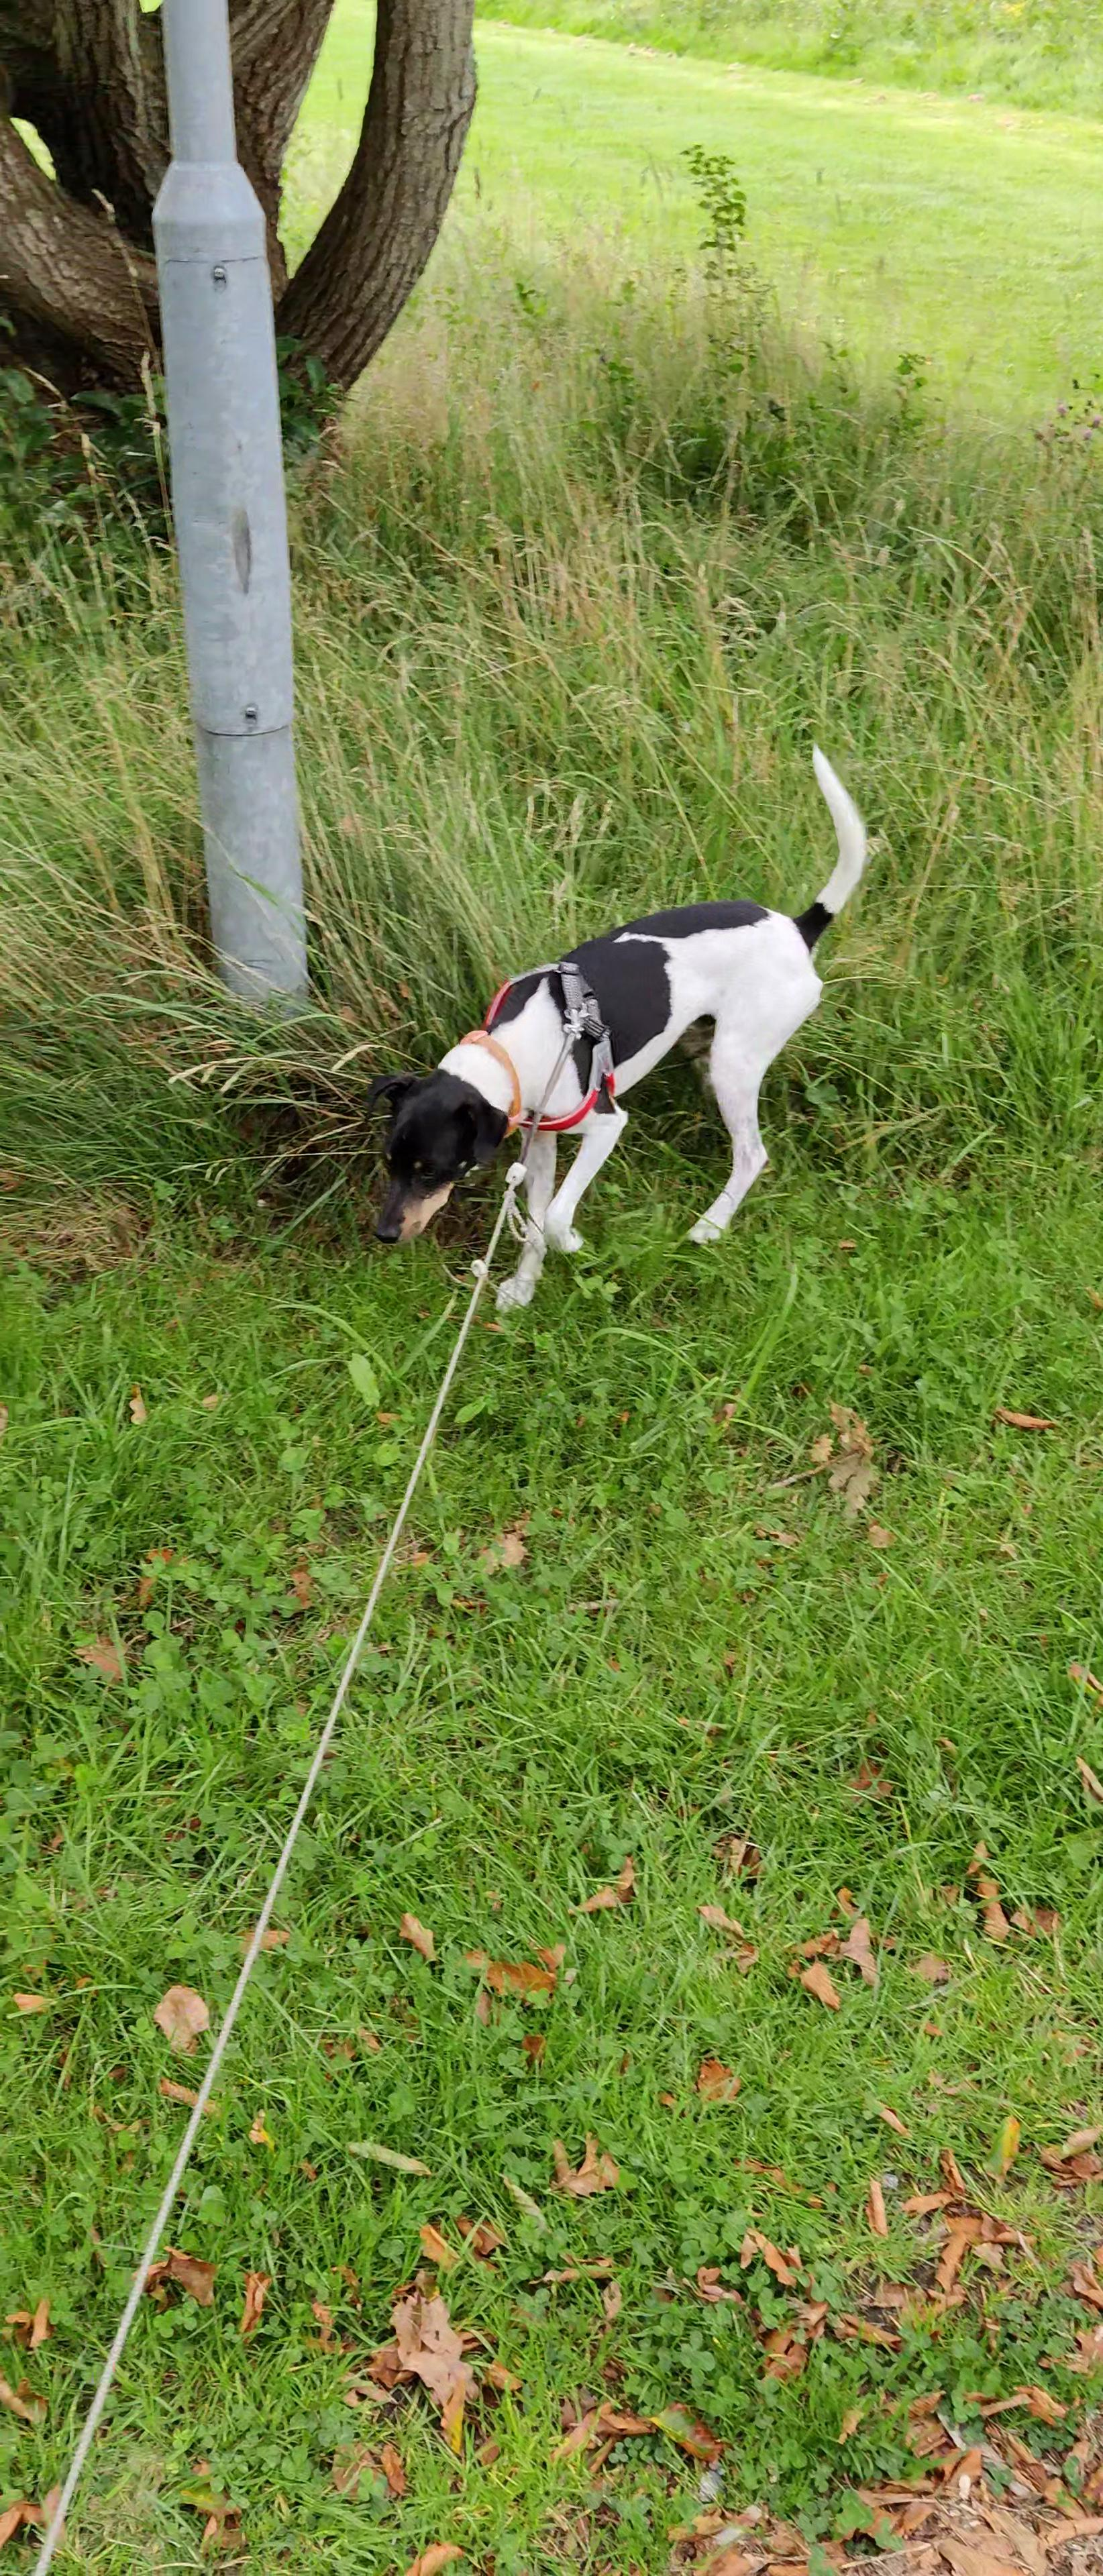Dog: (340, 736, 906, 1322)
